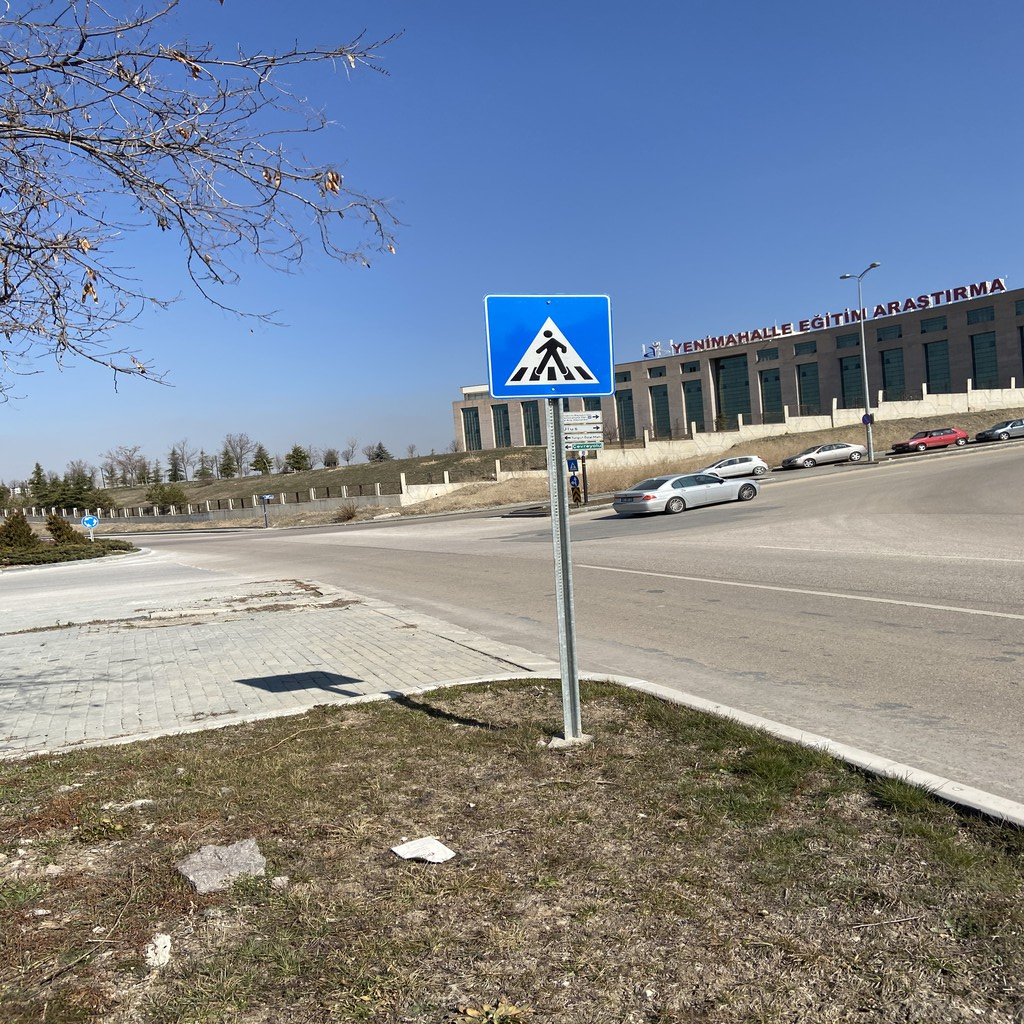Yaya Gecidi: (487, 297, 617, 399)
